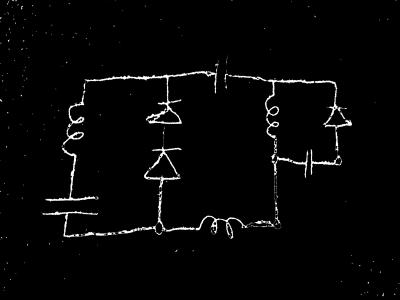capacitor: (60, 93, 89, 167), (194, 213, 251, 240), (263, 90, 280, 146)
diode: (40, 192, 101, 222), (211, 54, 233, 97), (301, 148, 316, 180)
signal: (142, 146, 185, 186), (144, 97, 186, 133), (322, 101, 354, 132)
